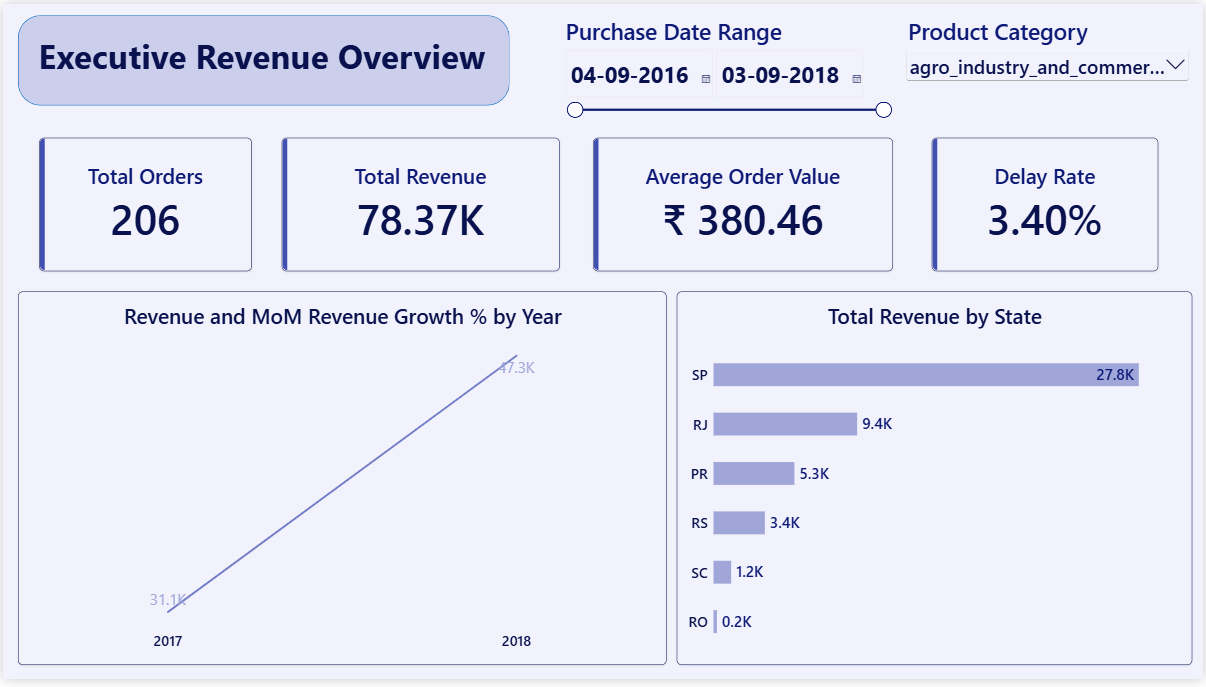

What the dashboard file says about the page in this screenshot:
{"tool":"powerbi","page":{"name":"Revenue_overview","canvas":[1920,1080],"ordinal":0},"visuals":[{"type":"cardVisual","title":"Average Order Price","fields":{"Data":["_Measures.Avg_order_value"]},"box":[944.4,213.3,480,213.3],"z":0},{"type":"cardVisual","title":"Average Order Price","fields":{"Data":["_Measures.Delay_rate"]},"box":[1486.7,213.3,362.2,213.3],"z":1000},{"type":"cardVisual","title":"Average Order Price","fields":{"Data":["_Measures.total_revenue"]},"box":[446.7,213.3,444.4,213.3],"z":2000},{"type":"cardVisual","title":"Average Order Price","fields":{"Data":["_Measures.total_count"]},"box":[57.8,213.3,340,213.3],"z":3000},{"type":"shape","box":[24.4,17.8,786.7,144.4],"z":4000},{"type":"textbox","box":[42.2,46.7,768.9,88.9],"z":5000},{"type":"slicer","title":"Average Order Price","fields":{"Values":["ecommerce_db fact_orders.order_purchase_timestamp"]},"box":[891.1,17.8,533.3,228.9],"z":6000},{"type":"slicer","title":"Average Order Price","fields":{"Values":["ecommerce_db dim_products.product_category_name_english"]},"box":[1440,17.8,462.2,173.3],"z":7000},{"type":"lineChart","title":"Revenue and MoM Revenue Growth % by Year","fields":{"Category":["ecommerce_db fact_orders.order_purchase_timestamp.Variation.Date Hierarchy.Year","ecommerce_db fact_orders.order_purchase_timestamp.Variation.Date Hierarchy.Quarter","ecommerce_db fact_orders.order_purchase_timestamp.Variation.Date Hierarchy.Month"],"Y":["_Measures.Total Revenue"]},"box":[24.4,460,1037.8,597.8],"z":8000},{"type":"clusteredBarChart","title":"Total Revenue by State","fields":{"Category":["ecommerce_db dim_customers.customer_state"],"Y":["_Measures.Total Revenue"]},"box":[1077.8,460,824.4,597.8],"z":9000}]}

Visuals, with their boxes in screenshot pixels (x1, y1, x2, y2), scaled from the page's 1920x1080 canvas onto the 1206x687 screenshot:
"Average Order Price" cardVisual: [593, 136, 895, 271]
"Average Order Price" cardVisual: [934, 136, 1161, 271]
"Average Order Price" cardVisual: [281, 136, 560, 271]
"Average Order Price" cardVisual: [36, 136, 250, 271]
shape: [15, 11, 509, 103]
textbox: [27, 30, 509, 86]
"Average Order Price" slicer: [560, 11, 895, 157]
"Average Order Price" slicer: [905, 11, 1195, 122]
"Revenue and MoM Revenue Growth % by Year" lineChart: [15, 293, 667, 673]
"Total Revenue by State" clusteredBarChart: [677, 293, 1195, 673]
